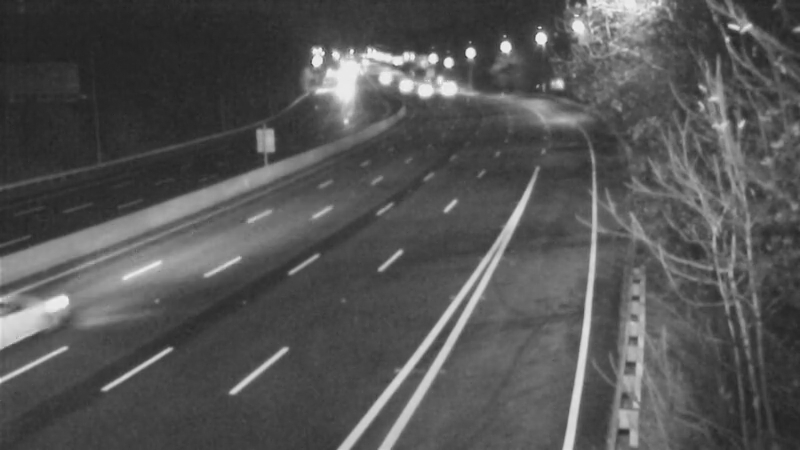vehicle: (357, 54, 407, 104), (376, 61, 426, 111), (397, 64, 447, 114), (421, 63, 471, 113)
